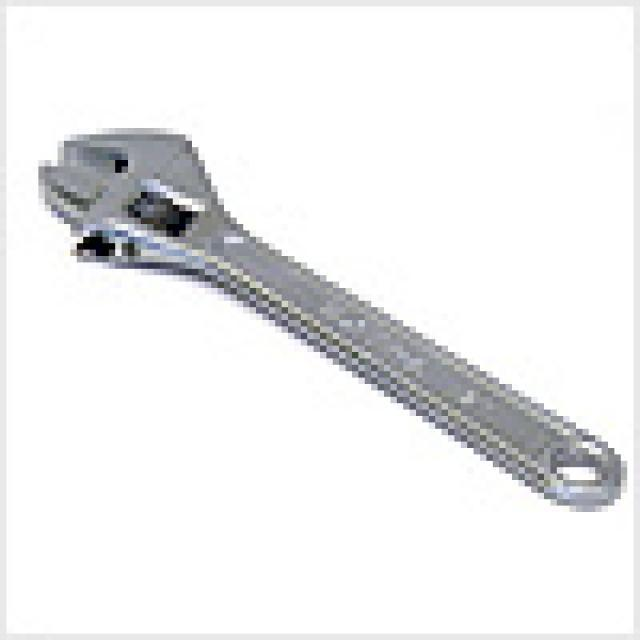wrench: (26, 112, 623, 518)
